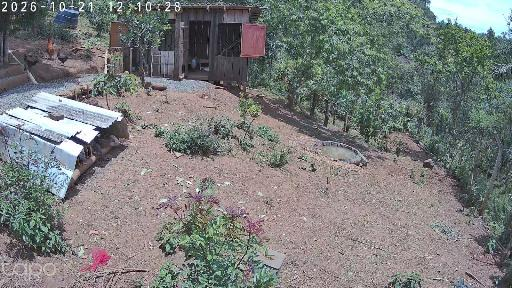galinha: (24, 54, 38, 69), (57, 52, 71, 65)
galo: (45, 39, 55, 58)
pato: (202, 67, 209, 72)
